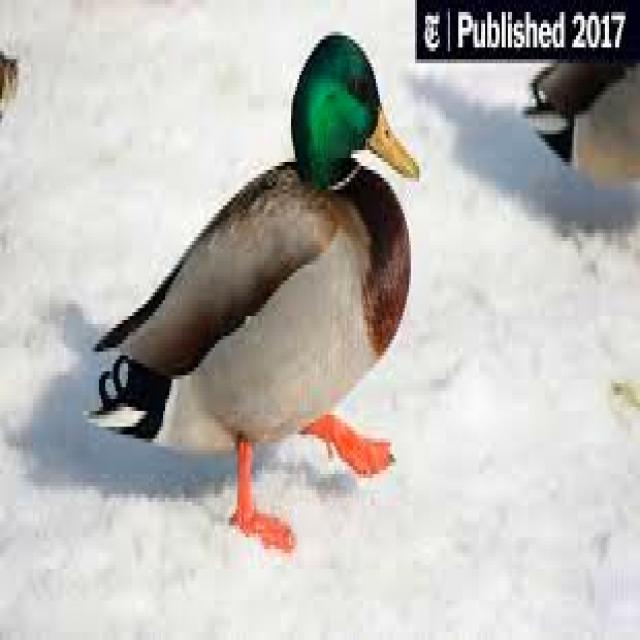duck: (87, 32, 417, 549)
